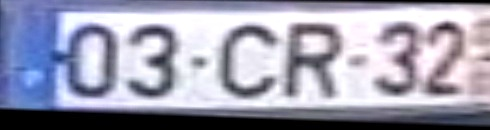0: (63, 23, 124, 102)
2: (422, 19, 474, 99)
3: (367, 20, 430, 100), (122, 22, 184, 102)
C: (214, 22, 283, 102)
R: (281, 21, 352, 104)
